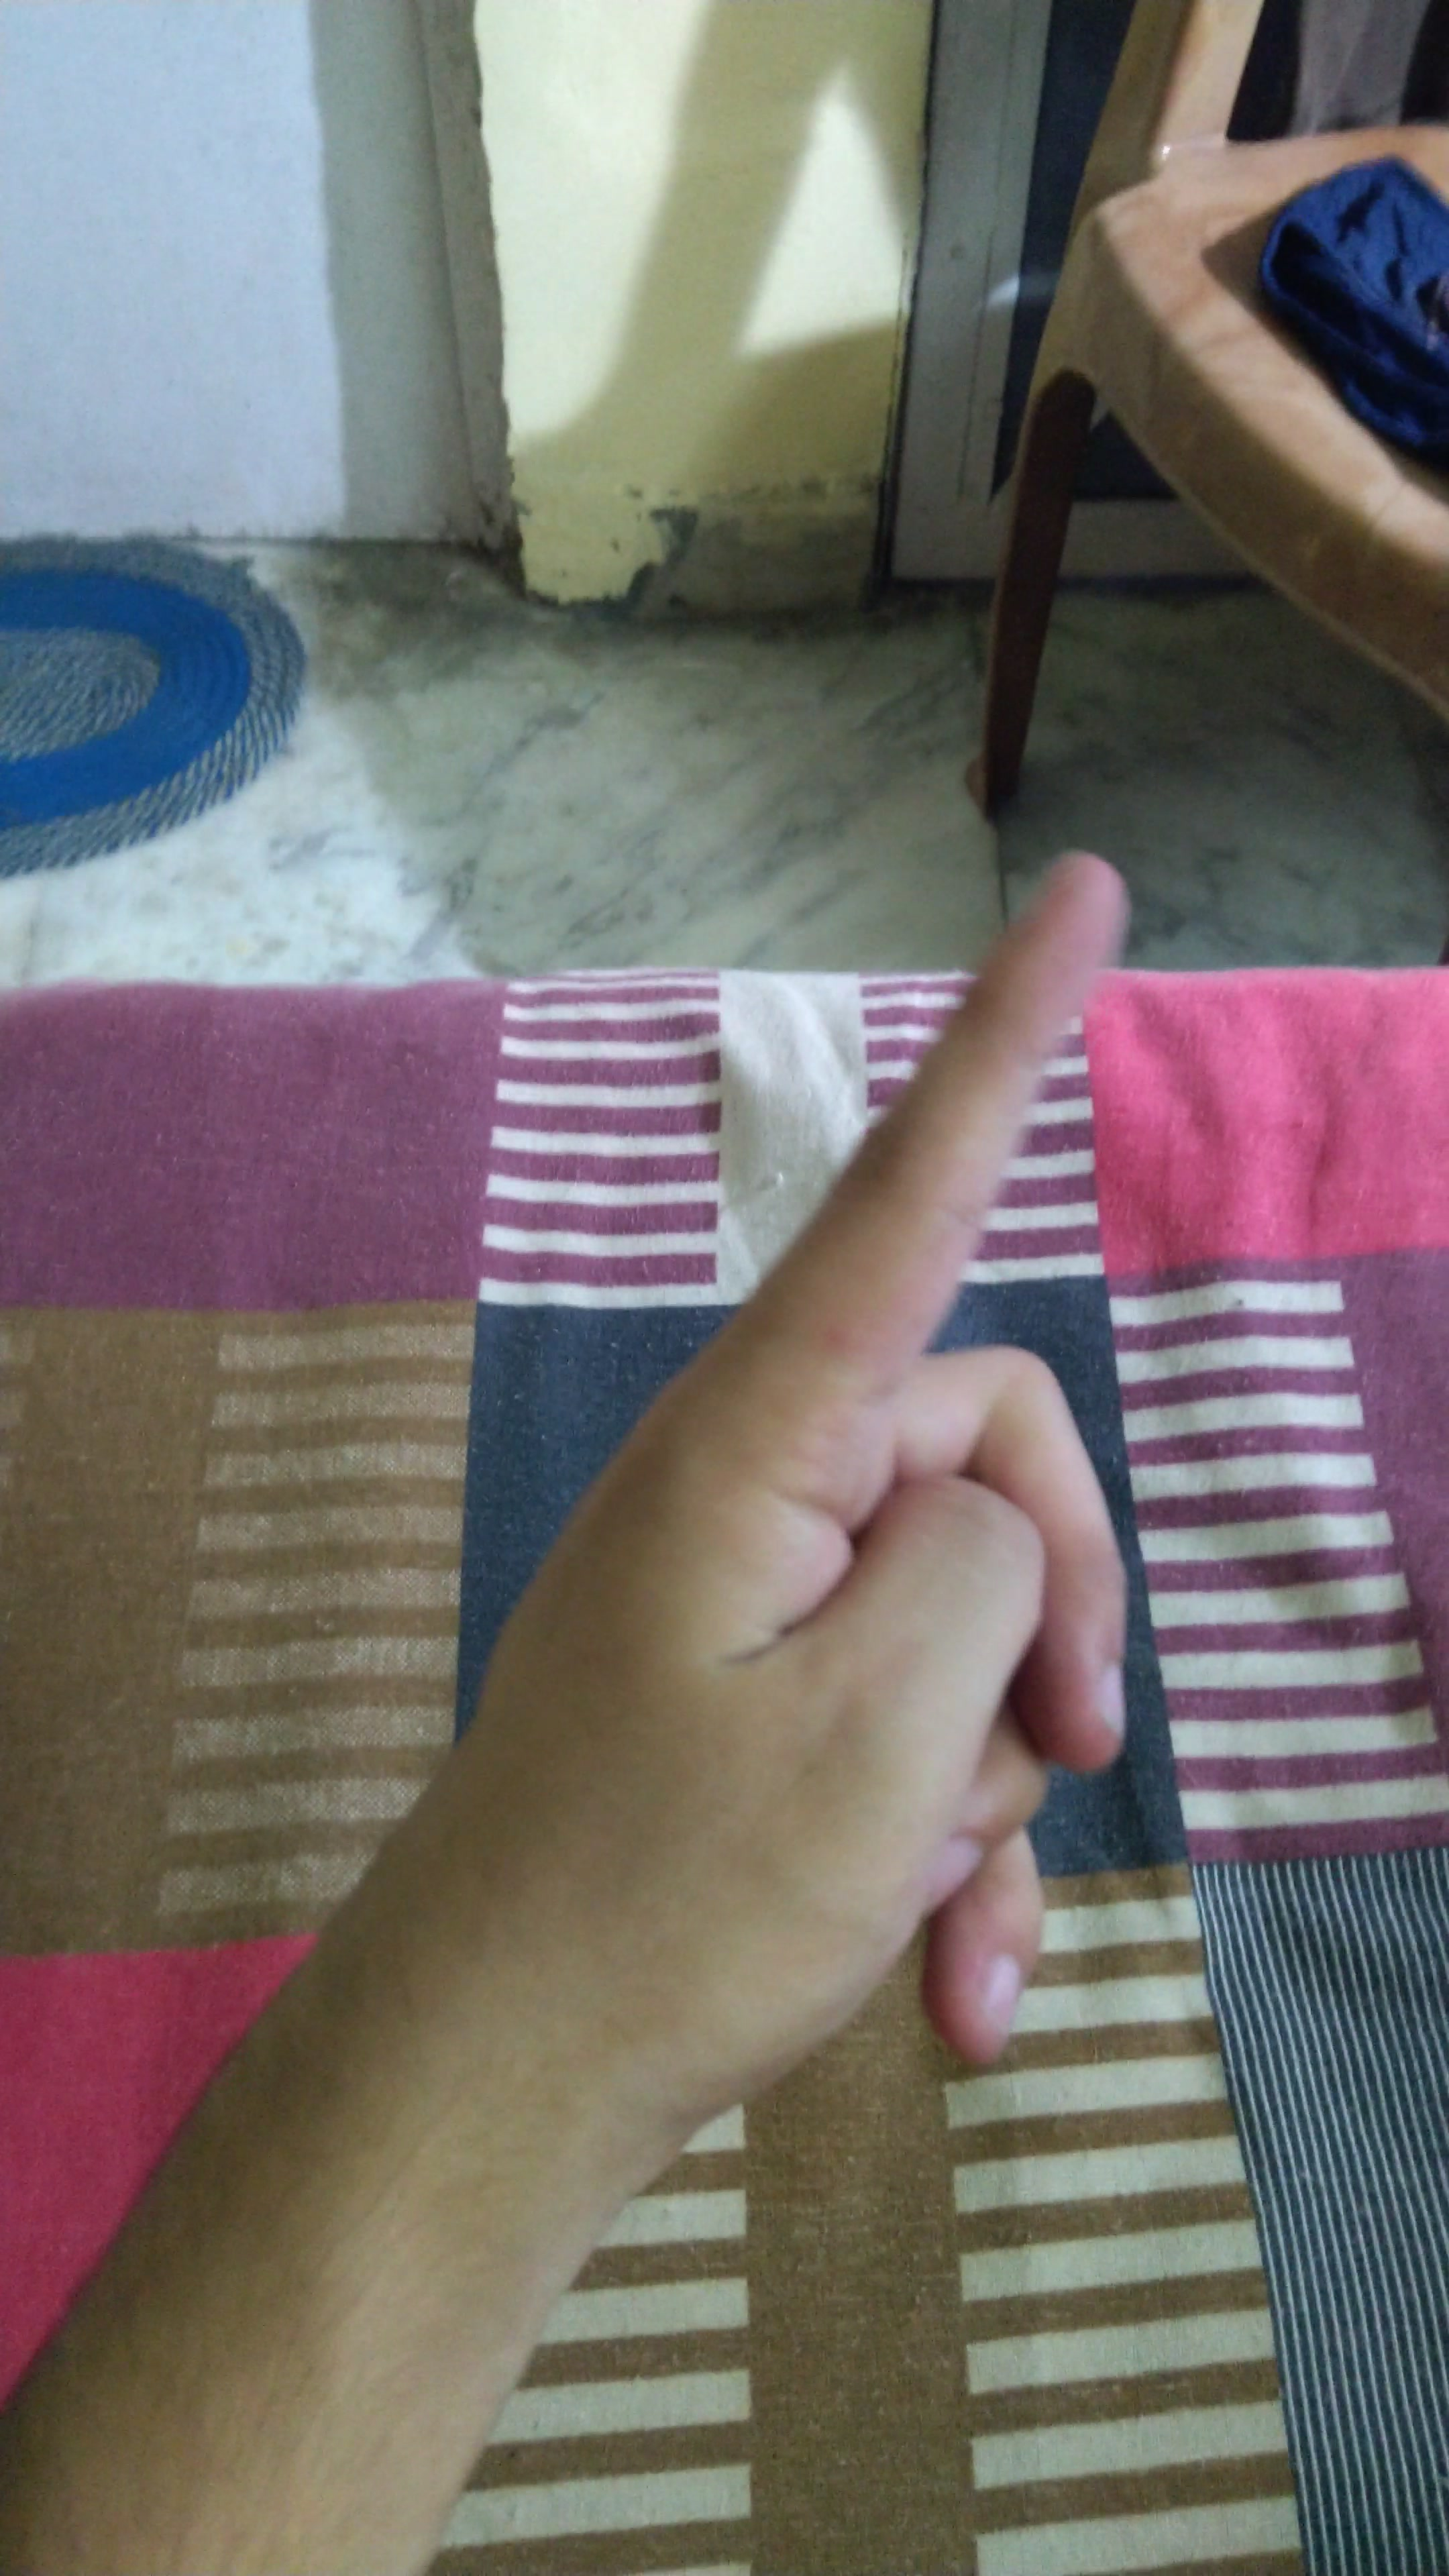hand: (363, 807, 1208, 2199)
